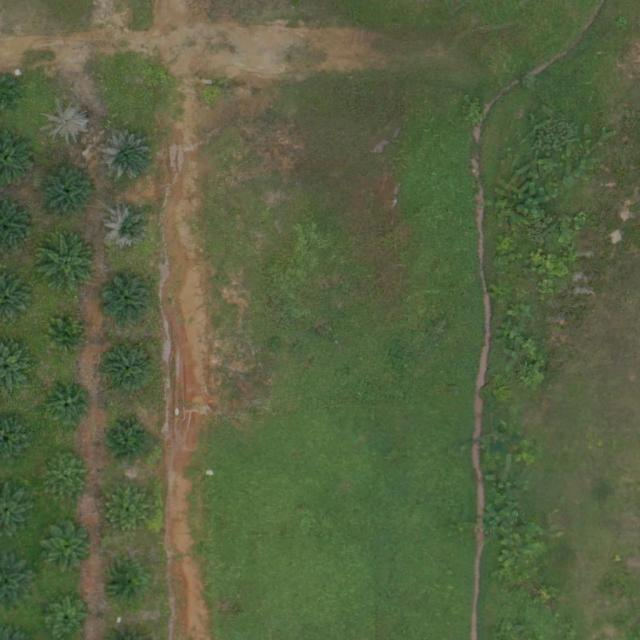Dead: (99, 130, 154, 185), (43, 99, 90, 147), (106, 205, 153, 253)
Healthy: (39, 162, 101, 225), (39, 234, 101, 296), (100, 274, 155, 329), (101, 343, 156, 398), (42, 453, 89, 500)
Small: (38, 519, 93, 574), (47, 384, 94, 431), (103, 486, 150, 533), (107, 418, 154, 465), (106, 562, 145, 602), (48, 318, 87, 357)
